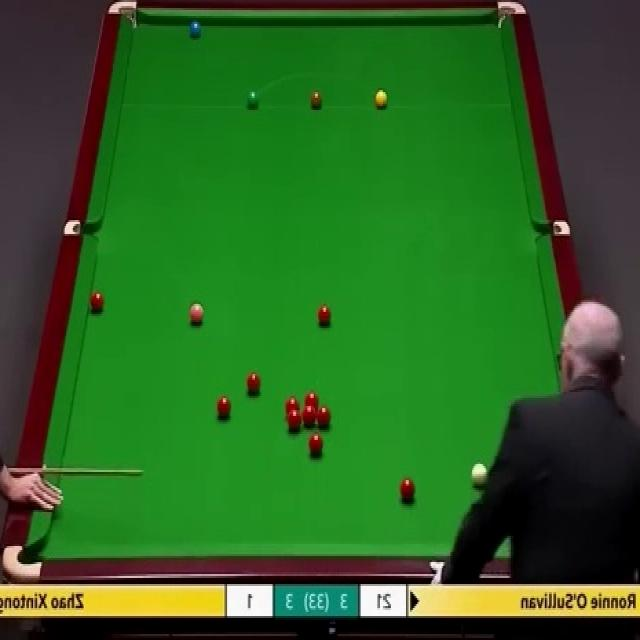pocket: (4, 543, 45, 580), (106, 0, 140, 32), (495, 0, 529, 29), (65, 218, 99, 237), (536, 221, 572, 237)
